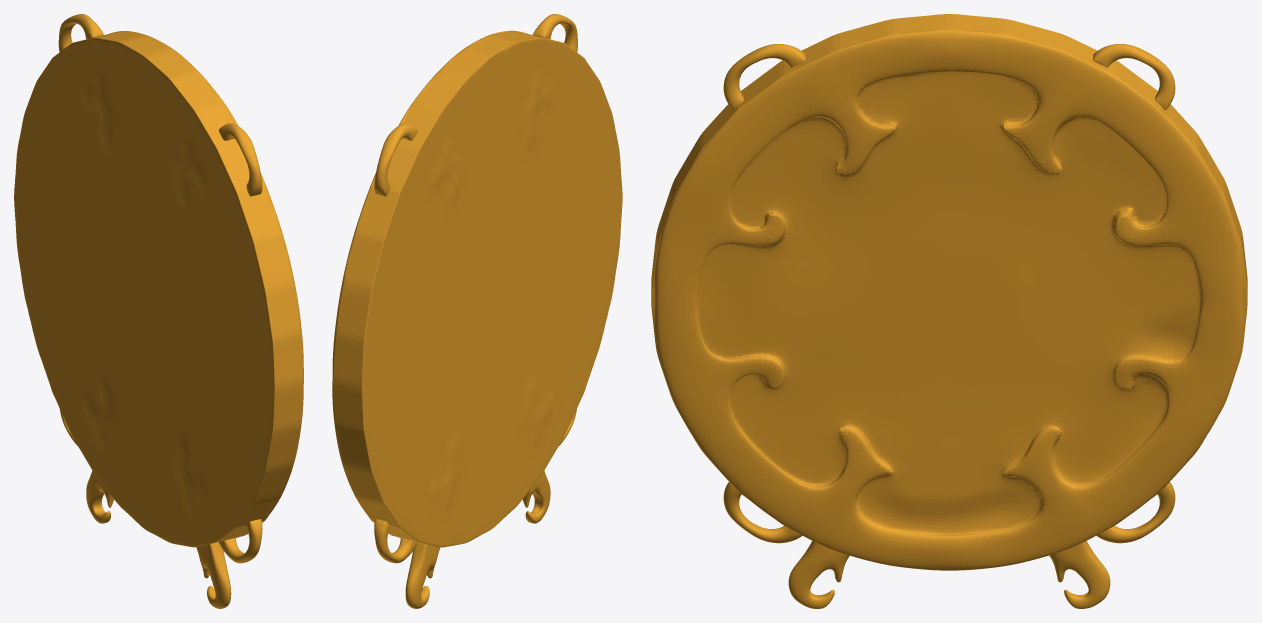
File: espelho.fbx
The picture shows the model from 3 angles, left to right: view 1: azimuth 30°, elevation 25°; view 2: azimuth 150°, elevation 25°; view 3: azimuth 270°, elevation 25°; orthographic projection. The views are drawn at different scales.
Visible parts, largest first — view 1: Cube.001; view 2: Cube.001; view 3: Cube.001.
Boxes of the visible parts, box(x1,y1,x2,y2) form: Cube.001: box(14, 14, 303, 608); Cube.001: box(332, 14, 622, 608); Cube.001: box(651, 14, 1247, 608).
Size of the model in its own units: 31.85 by 441 by 407.
